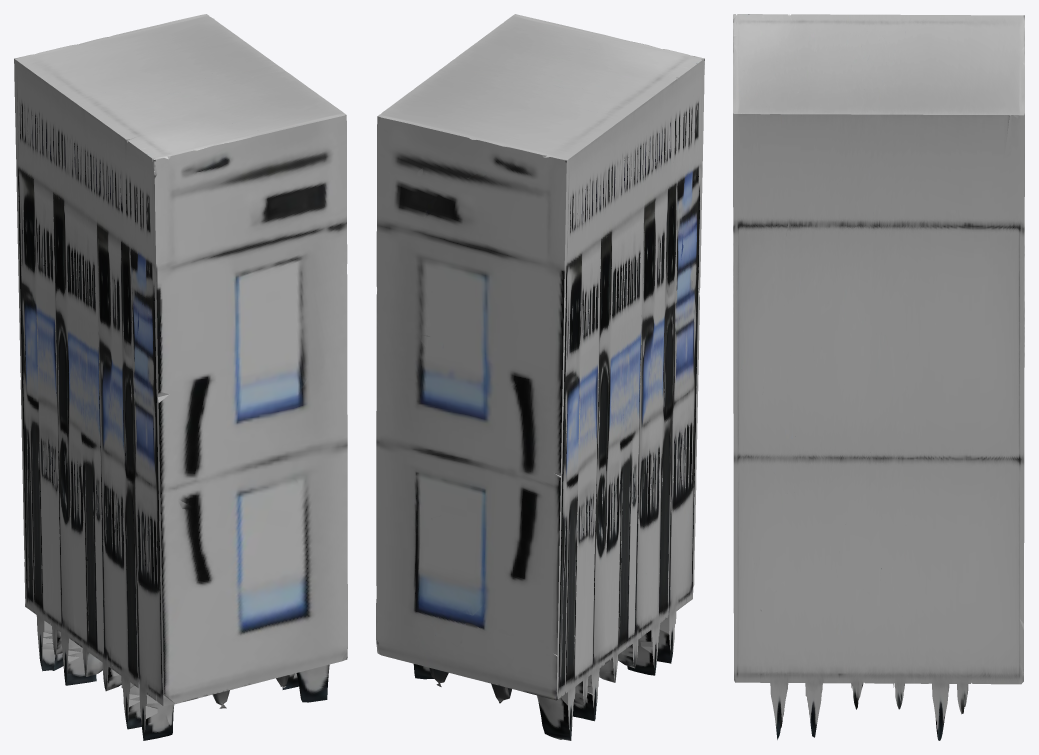
3 views of the same model, side by side, from view 1: azimuth 30°, elevation 25°; view 2: azimuth 150°, elevation 25°; view 3: azimuth 270°, elevation 25° (orthographic). The views are drawn at different scales.
Size of the model in its own units: 0.6402 by 1.91 by 0.8.
Materials: 1 (1 with a texture image).
